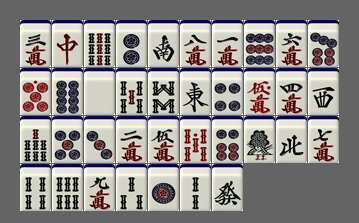0m: (244, 68, 275, 115)
0p: (20, 68, 51, 115)
0s: (180, 116, 211, 163)
1m: (212, 20, 243, 67)
1p: (148, 164, 179, 211)
1s: (244, 116, 275, 163)
1z: (180, 68, 211, 115)
2m: (116, 116, 147, 163)
2p: (116, 20, 147, 67)
2s: (180, 164, 211, 211)
2z: (148, 20, 179, 67)
3m: (20, 20, 51, 67)
3p: (84, 116, 115, 163)
3s: (116, 164, 147, 211)
3z: (308, 68, 339, 115)
4m: (276, 68, 307, 115)
4p: (212, 68, 243, 115)
4s: (20, 164, 51, 211)
4z: (276, 116, 307, 163)
5m: (148, 116, 179, 163)
5p: (52, 116, 83, 163)
5s: (116, 68, 147, 115)
5z: (84, 68, 115, 115)
6m: (276, 20, 307, 67)
6p: (212, 116, 243, 163)
6s: (52, 164, 83, 211)
6z: (212, 164, 243, 211)
7m: (308, 116, 339, 163)
7p: (308, 20, 339, 67)
7s: (20, 116, 51, 163)
7z: (52, 20, 83, 67)
8m: (180, 20, 211, 67)
8p: (52, 68, 83, 115)
8s: (148, 68, 179, 115)
9m: (84, 164, 115, 211)
9p: (244, 20, 275, 67)
9s: (84, 20, 115, 67)
